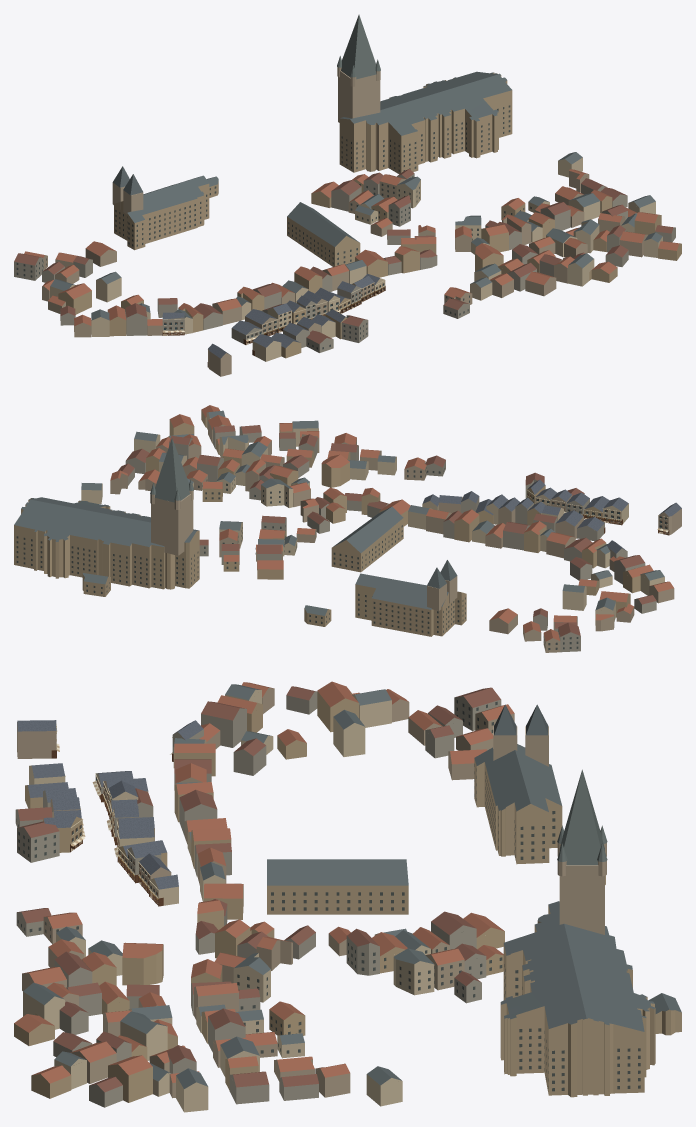
3 renders of one model, top to bottom at view 1: azimuth 30°, elevation 25°; view 2: azimuth 150°, elevation 25°; view 3: azimuth 270°, elevation 25°, orthographic. The views are drawn at different scales.
Parts seen in each view (by area): view 1: C_2_1; view 2: C_2_1; view 3: C_2_1.
Boxes of the visible parts, <box> form: C_2_1: <box>14,14,681,376</box>; C_2_1: <box>14,405,681,652</box>; C_2_1: <box>14,681,681,1112</box>.
Size of the model in its own units: 368 by 92 by 251.
23 materials, 4 textured.
